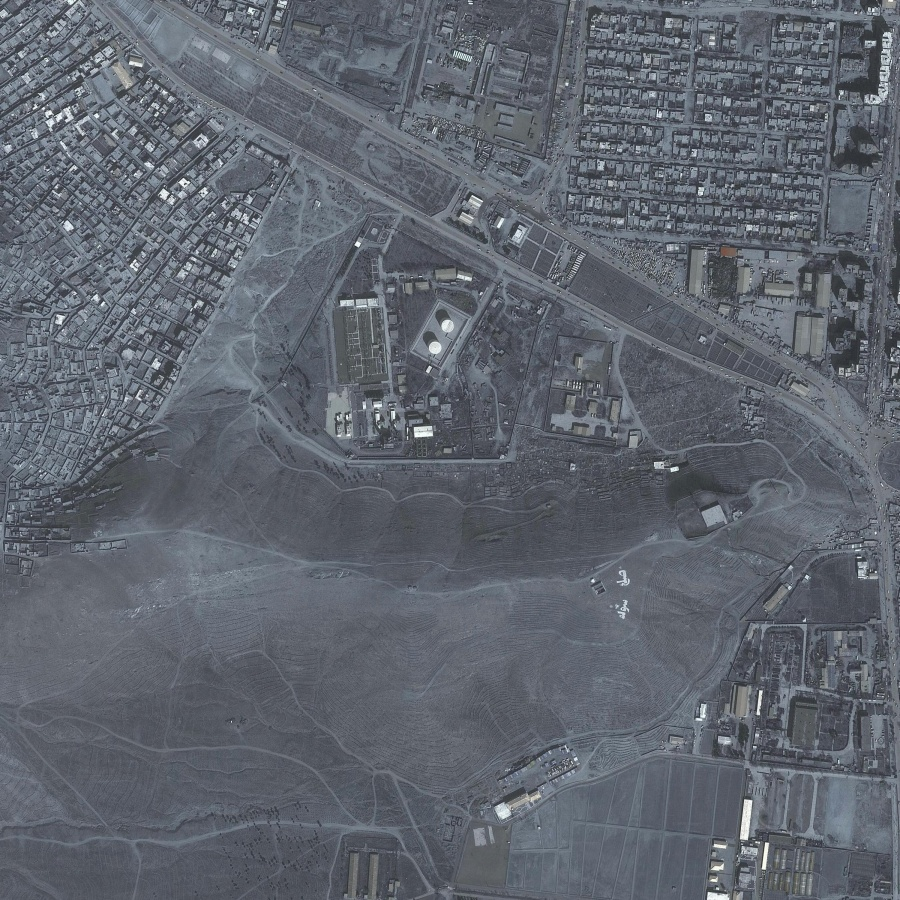PowerPlant: (335, 261, 478, 452)
